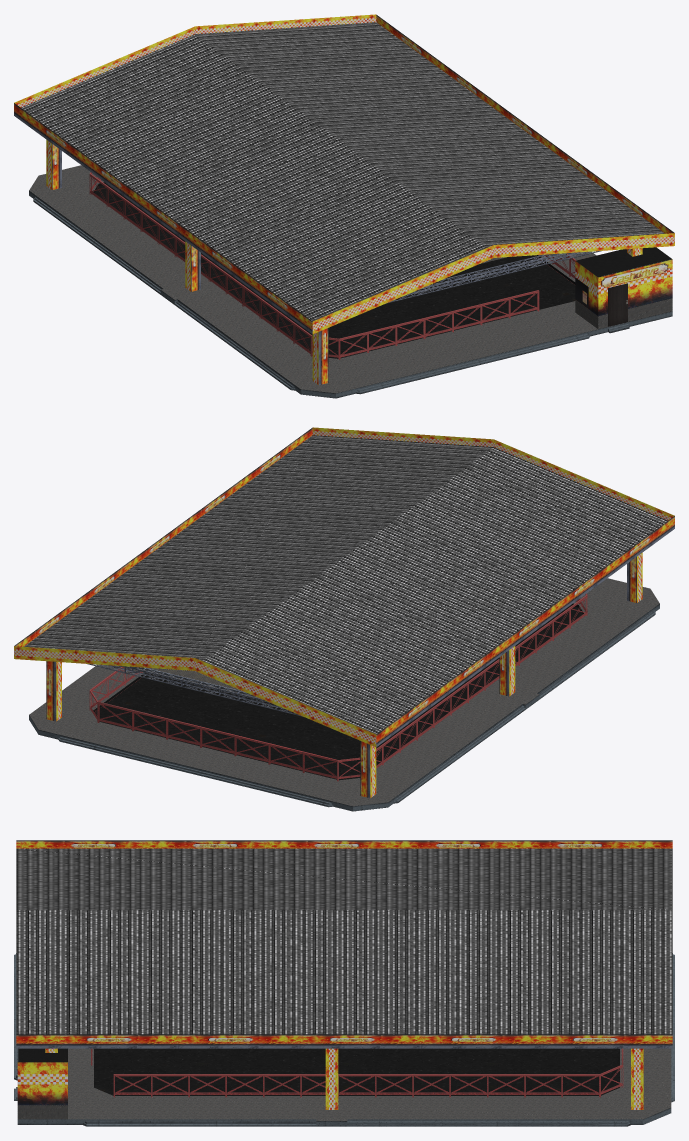
File: BumperCarArena01.obj
The picture shows the model from 3 angles, top to bottom: view 1: azimuth 30°, elevation 25°; view 2: azimuth 150°, elevation 25°; view 3: azimuth 270°, elevation 25°; orthographic projection. The views are drawn at different scales.
Parts seen in each view (by area): view 1: BumperCarArena01; view 2: BumperCarArena01; view 3: BumperCarArena01.
Part boxes in pixels (x1,y1,x2,y2): BumperCarArena01: (14, 14, 674, 398); BumperCarArena01: (14, 427, 674, 811); BumperCarArena01: (14, 840, 674, 1126).
Bounding box in the file's own units: 36.84 × 11.15 × 52.6.
